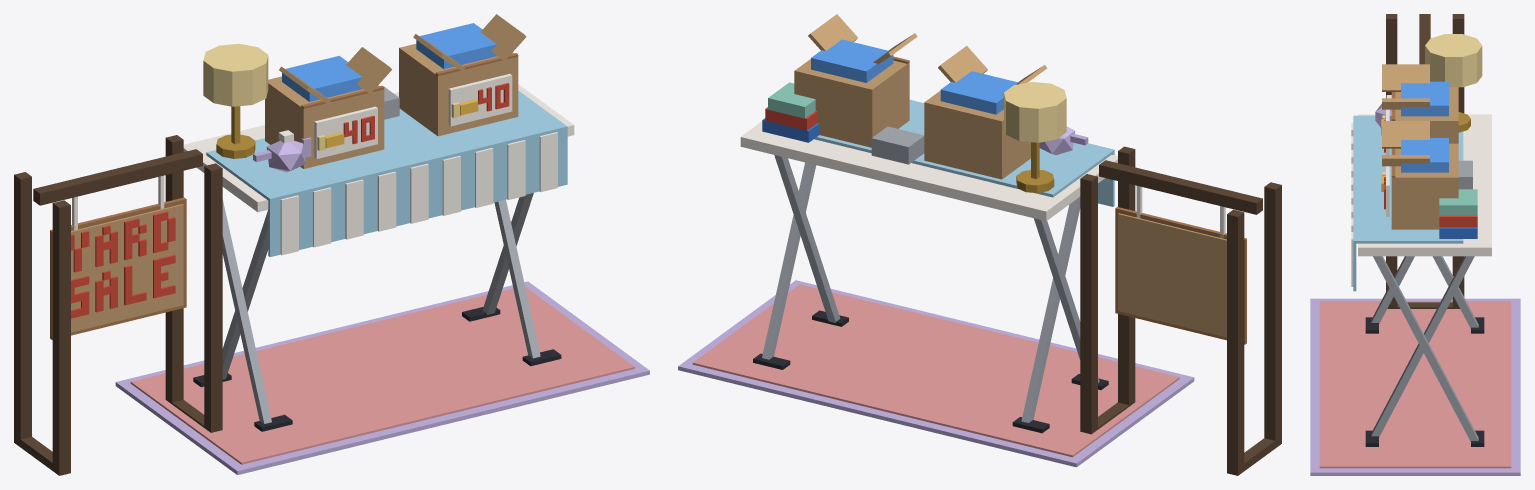
The model's file is CatCafe_Camp_Neighbourhood_YardSale.glb.
The picture shows the model from 3 angles, left to right: view 1: azimuth 30°, elevation 25°; view 2: azimuth 150°, elevation 25°; view 3: azimuth 270°, elevation 25°; orthographic projection. The views are drawn at different scales.
Parts seen in each view (by area): view 1: CatCafe_Camp_Neighbourhood_YardSale, CatCafe_Camp_Neighbourhood_YardSale_Sign_Swing; view 2: CatCafe_Camp_Neighbourhood_YardSale, CatCafe_Camp_Neighbourhood_YardSale_Sign_Swing; view 3: CatCafe_Camp_Neighbourhood_YardSale.
Boxes of the visible parts, bbox=[...] form: CatCafe_Camp_Neighbourhood_YardSale: bbox=[14, 14, 649, 475]; CatCafe_Camp_Neighbourhood_YardSale_Sign_Swing: bbox=[50, 175, 186, 339]; CatCafe_Camp_Neighbourhood_YardSale: bbox=[678, 14, 1281, 475]; CatCafe_Camp_Neighbourhood_YardSale_Sign_Swing: bbox=[1115, 186, 1246, 344]; CatCafe_Camp_Neighbourhood_YardSale: bbox=[1310, 14, 1520, 475].
Size of the model in its own units: 5.7 by 3.36 by 2.2.
1 material, 1 textured.
